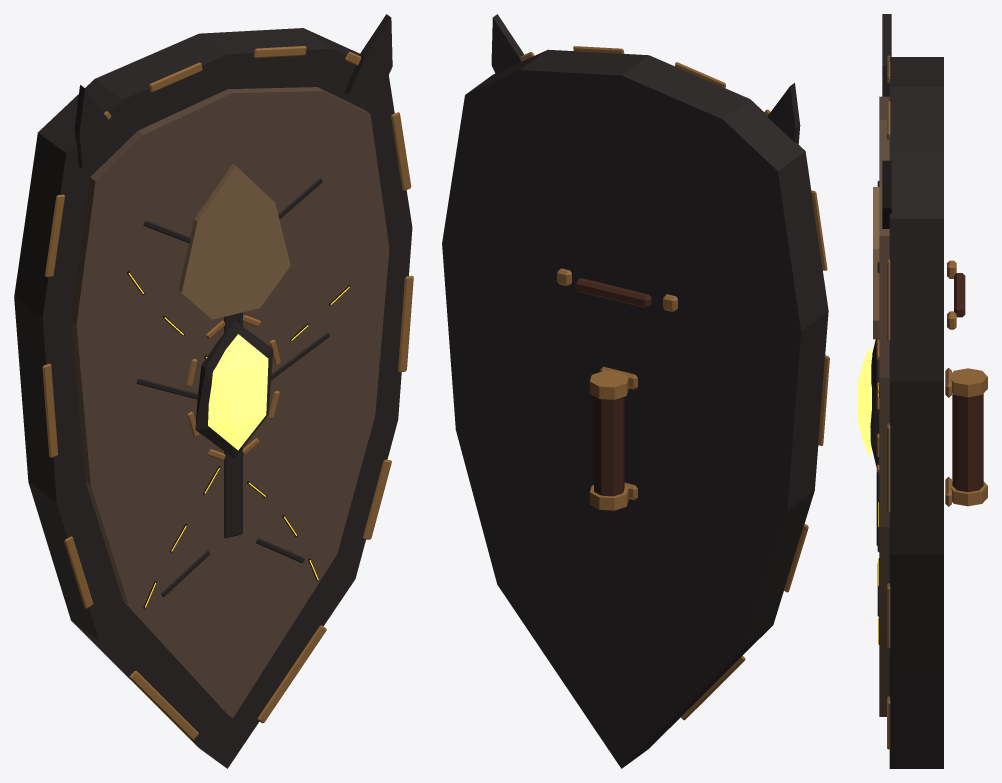
File: Infernal_Bastion.fbx
The picture shows the model from 3 angles, left to right: view 1: azimuth 30°, elevation 25°; view 2: azimuth 150°, elevation 25°; view 3: azimuth 270°, elevation 25°; orthographic projection. The views are drawn at different scales.
Visible parts, largest first — view 1: Shield_FrontPlate, Shield_MainBody, Furnace_Crown, Furnace_EmberGem, Furnace_EmberGem_Cradle, Horn_Right, Horn_Left, Furnace_Spine, Rim_08, Rim_07, Rim_10, Rim_05 (+4 smaller); view 2: Shield_MainBody, Grip_Handle, Horn_Right, Arm_Strap, Horn_Left, Grip_Cap_Upper; view 3: Shield_MainBody, Shield_FrontPlate, Grip_Handle, Furnace_EmberGem, Furnace_Crown, Grip_Cap_Upper, Furnace_EmberGem_Cradle, Horn_Left, Horn_Right, Grip_Cap_Lower, Arm_Strap, Rim_05 (+3 smaller).
Boxes of the visible parts, x1,y1,x2,y2 form: Shield_FrontPlate: [71, 87, 389, 717]; Shield_MainBody: [14, 28, 412, 768]; Furnace_Crown: [178, 164, 290, 319]; Furnace_EmberGem: [208, 334, 268, 450]; Furnace_EmberGem_Cradle: [195, 320, 273, 458]; Horn_Right: [344, 14, 392, 99]; Horn_Left: [74, 85, 112, 169]; Furnace_Spine: [224, 312, 242, 538]; Rim_08: [129, 670, 198, 740]; Rim_07: [257, 625, 326, 723]; Rim_10: [42, 363, 58, 457]; Rim_05: [398, 275, 413, 372]; Shield_MainBody: [442, 49, 828, 768]; Grip_Handle: [594, 396, 624, 496]; Horn_Right: [491, 14, 523, 73]; Arm_Strap: [575, 278, 651, 308]; Horn_Left: [767, 83, 800, 143]; Grip_Cap_Upper: [589, 371, 628, 399]; Shield_MainBody: [889, 57, 943, 768]; Shield_FrontPlate: [879, 96, 889, 716]; Grip_Handle: [952, 393, 983, 492]; Furnace_EmberGem: [858, 346, 872, 456]; Furnace_Crown: [873, 187, 879, 339]; Grip_Cap_Upper: [950, 368, 987, 397]; Furnace_EmberGem_Cradle: [870, 339, 879, 466]; Horn_Left: [882, 14, 891, 96]; Horn_Right: [882, 160, 891, 228]; Grip_Cap_Lower: [950, 481, 987, 506]; Arm_Strap: [954, 273, 965, 317]; Rim_05: [887, 423, 890, 512].
Bounding box in the file's own units: 78.35 × 145 × 24.84.
